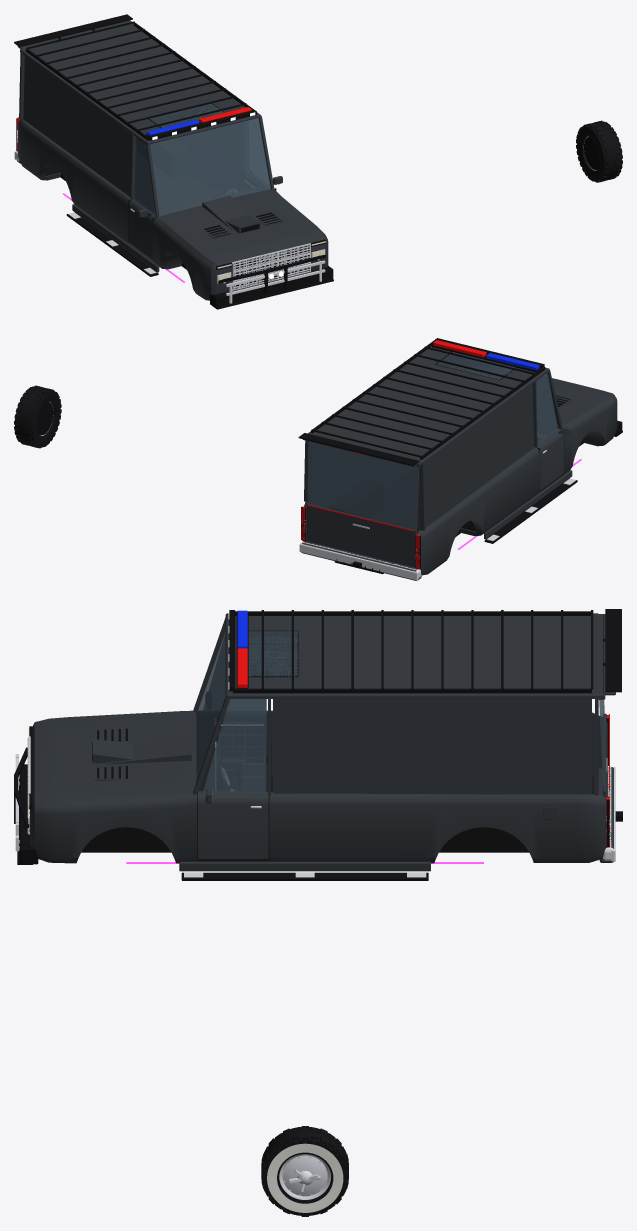
The model's file is ArmoredTruck.glb.
The picture shows the model from 3 angles, top to bottom: view 1: azimuth 30°, elevation 25°; view 2: azimuth 150°, elevation 25°; view 3: azimuth 270°, elevation 25°; orthographic projection. The views are drawn at different scales.
Visible parts, largest first — view 1: ArmoredTruck_PanelRoof, ArmoredTruck_RoofBody, ArmoredTruck_Glass, ArmoredTruck_PanelSideR, ArmoredTruck_PanelHood, ArmoredTruck_OptTopRackDark, ArmoredTruck_Body, ArmoredTruck_Carpet, ArmoredTruck_OptFrontBumperBullDark, ArmoredTruckWheel_TireOffroadRubber, ArmoredTruck_PanelDoorR, ArmoredTruck_RoofGlass__WinDoorR (+14 smaller); view 2: ArmoredTruck_PanelRoof, ArmoredTruck_RoofBody, ArmoredTruck_RoofGlass__Lid, ArmoredTruck_PanelSideR, ArmoredTruck_OptTopRackDark, ArmoredTruck_Lid, ArmoredTruck_Carpet, ArmoredTruck_Body, ArmoredTruckWheel_TireOffroadRubber, ArmoredTruck_PanelHood, ArmoredTruck_PanelDoorR, ArmoredTruck_RoofGlass__WinDoorR (+11 smaller); view 3: ArmoredTruck_RoofBody, ArmoredTruck_PanelSideL, ArmoredTruck_PanelRoof, ArmoredTruck_PanelHood, ArmoredTruck_OptTopRackDark, ArmoredTruck_RoofGlass__WinDoorL, ArmoredTruck_PanelDoorL, ArmoredTruck_Under, ArmoredTruck_OptSkirtsRockerBody, ArmoredTruckWheel_TireOffroadRubber, ArmoredTruck_Body, ArmoredTruck_Glass (+13 smaller).
Part boxes in pixels (x1=…): ArmoredTruck_PanelRoof: x1=21, y1=23, x2=261, y2=144; ArmoredTruck_RoofBody: x1=19, y1=52, x2=274, y2=218; ArmoredTruck_Glass: x1=150, y1=118, x2=270, y2=216; ArmoredTruck_PanelSideR: x1=18, y1=120, x2=212, y2=300; ArmoredTruck_PanelHood: x1=159, y1=189, x2=325, y2=265; ArmoredTruck_OptTopRackDark: x1=26, y1=21, x2=256, y2=140; ArmoredTruck_Body: x1=20, y1=118, x2=328, y2=294; ArmoredTruck_Carpet: x1=45, y1=138, x2=212, y2=211; ArmoredTruck_OptFrontBumperBullDark: x1=210, y1=254, x2=333, y2=308; ArmoredTruckWheel_TireOffroadRubber: x1=576, y1=120, x2=622, y2=182; ArmoredTruck_PanelDoorR: x1=128, y1=199, x2=155, y2=259; ArmoredTruck_RoofGlass__WinDoorR: x1=133, y1=136, x2=155, y2=214; ArmoredTruck_PanelRoof: x1=308, y1=346, x2=549, y2=463; ArmoredTruck_RoofBody: x1=304, y1=370, x2=562, y2=530; ArmoredTruck_RoofGlass__Lid: x1=307, y1=441, x2=419, y2=529; ArmoredTruck_PanelSideR: x1=417, y1=395, x2=617, y2=575; ArmoredTruck_OptTopRackDark: x1=311, y1=339, x2=545, y2=459; ArmoredTruck_Lid: x1=307, y1=462, x2=421, y2=567; ArmoredTruck_Carpet: x1=329, y1=467, x2=476, y2=533; ArmoredTruck_Body: x1=304, y1=427, x2=605, y2=573; ArmoredTruckWheel_TireOffroadRubber: x1=14, y1=385, x2=61, y2=448; ArmoredTruck_PanelHood: x1=552, y1=378, x2=615, y2=426; ArmoredTruck_PanelDoorR: x1=537, y1=428, x2=564, y2=489; ArmoredTruck_RoofGlass__WinDoorR: x1=536, y1=373, x2=558, y2=444; ArmoredTruck_RoofBody: x1=193, y1=617, x2=598, y2=795; ArmoredTruck_PanelSideL: x1=34, y1=793, x2=606, y2=863; ArmoredTruck_PanelRoof: x1=225, y1=613, x2=598, y2=697; ArmoredTruck_PanelHood: x1=31, y1=710, x2=194, y2=805; ArmoredTruck_OptTopRackDark: x1=231, y1=610, x2=593, y2=693; ArmoredTruck_RoofGlass__WinDoorL: x1=203, y1=699, x2=266, y2=793; ArmoredTruck_PanelDoorL: x1=198, y1=791, x2=268, y2=858; ArmoredTruck_Under: x1=81, y1=827, x2=529, y2=852; ArmoredTruck_OptSkirtsRockerBody: x1=179, y1=861, x2=430, y2=871; ArmoredTruckWheel_TireOffroadRubber: x1=261, y1=1126, x2=348, y2=1216; ArmoredTruck_Body: x1=30, y1=710, x2=607, y2=858; ArmoredTruck_Glass: x1=195, y1=626, x2=225, y2=783.
Bounding box in the file's own units: 36.01 × 12.02 × 25.45.
